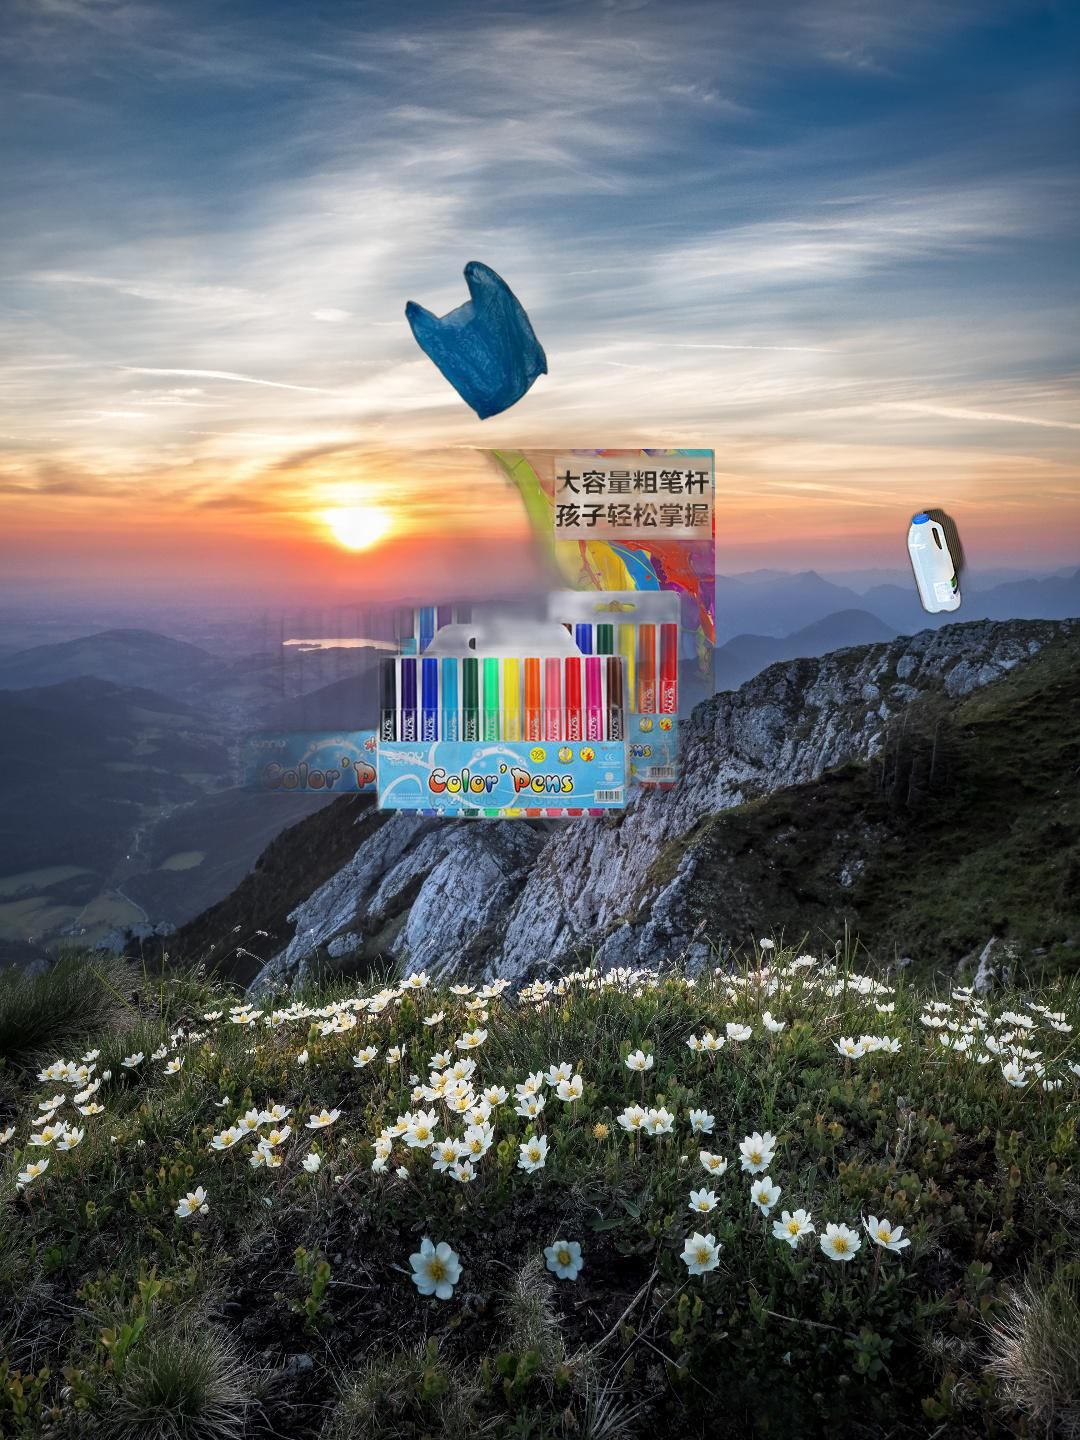penholder: (216, 449, 715, 949)
plastic-bag: (404, 259, 550, 423)
plastic-bottles: (903, 503, 974, 619)
trashbox-cardboard: (962, 313, 1080, 508)
